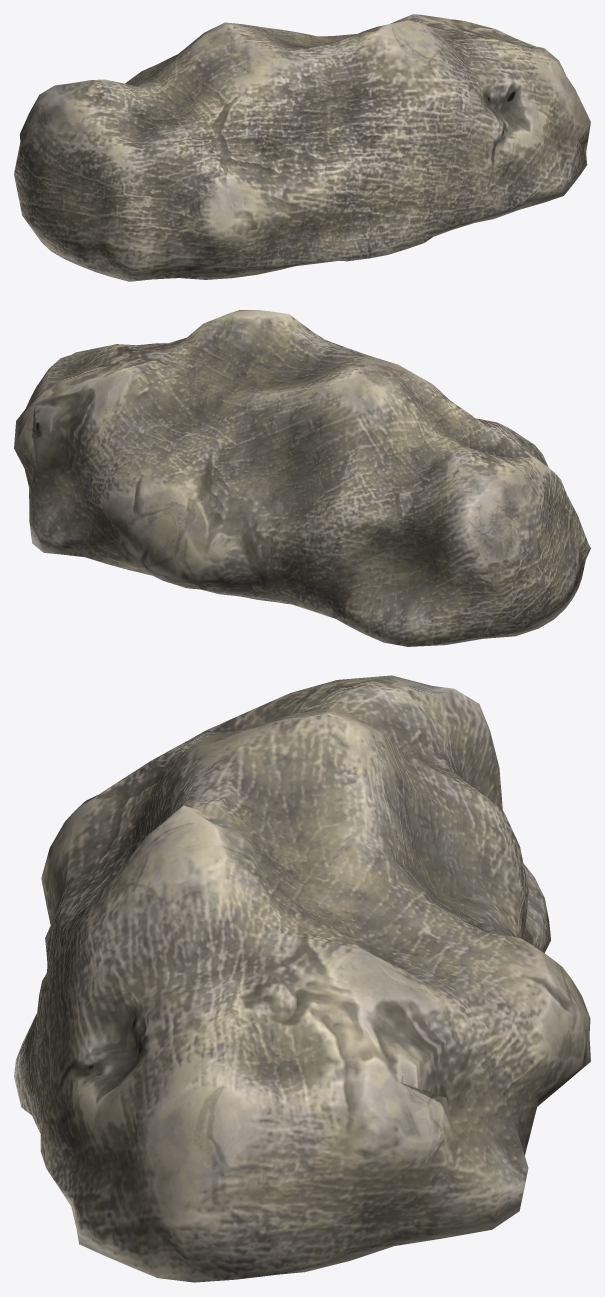
Rendered from rock5.fbx.
3 renders of one model, top to bottom at view 1: azimuth 30°, elevation 25°; view 2: azimuth 150°, elevation 25°; view 3: azimuth 270°, elevation 25°, orthographic. The views are drawn at different scales.
Visible parts, largest first — view 1: rock5; view 2: rock5; view 3: rock5.
Boxes of the visible parts, x1,y1,x2,y2 form: rock5: [14, 14, 590, 281]; rock5: [14, 310, 590, 646]; rock5: [14, 675, 590, 1282].
Size of the model in its own units: 30.6 by 10.68 by 17.58.
